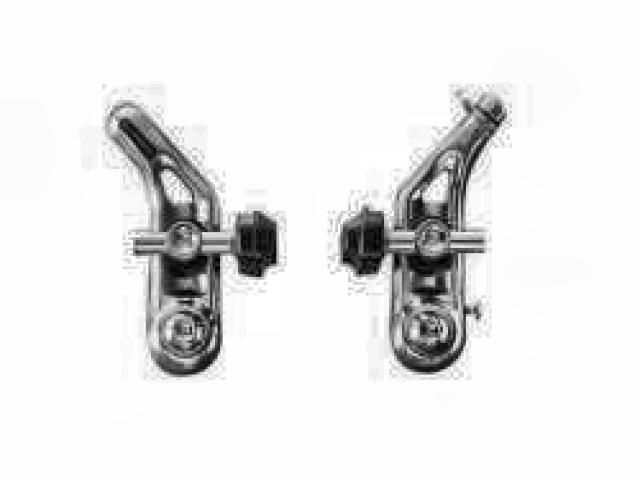rim_brake: (100, 84, 508, 378)
